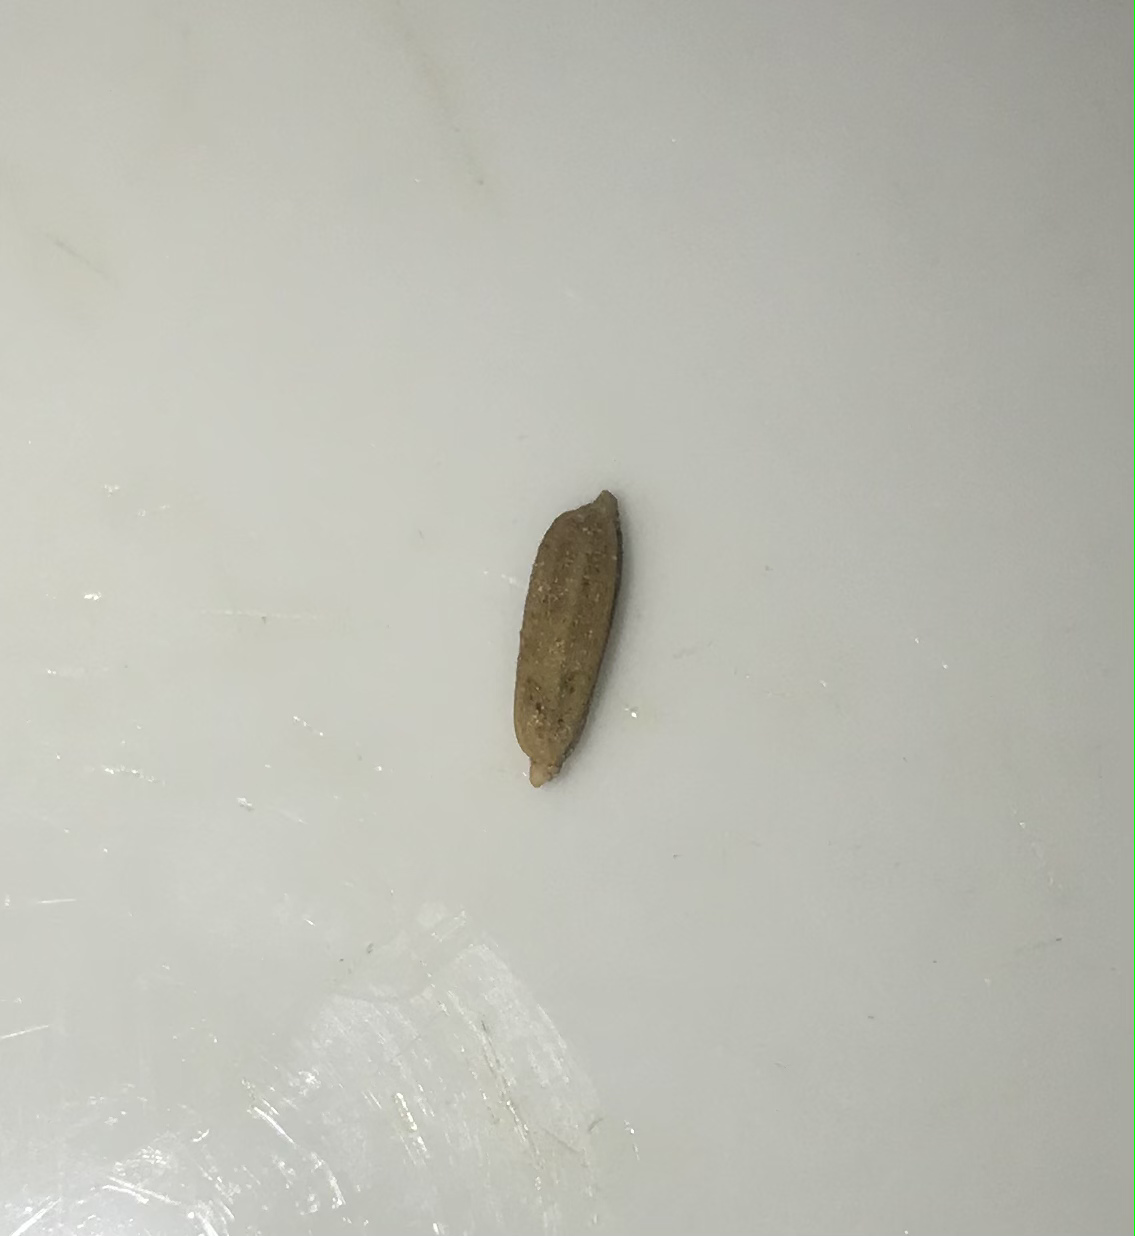Gao Lut Do: (510, 484, 649, 797)
